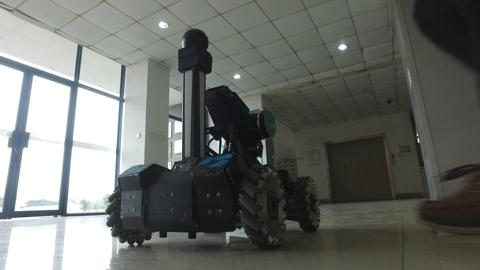chariot: (97, 19, 331, 254)
